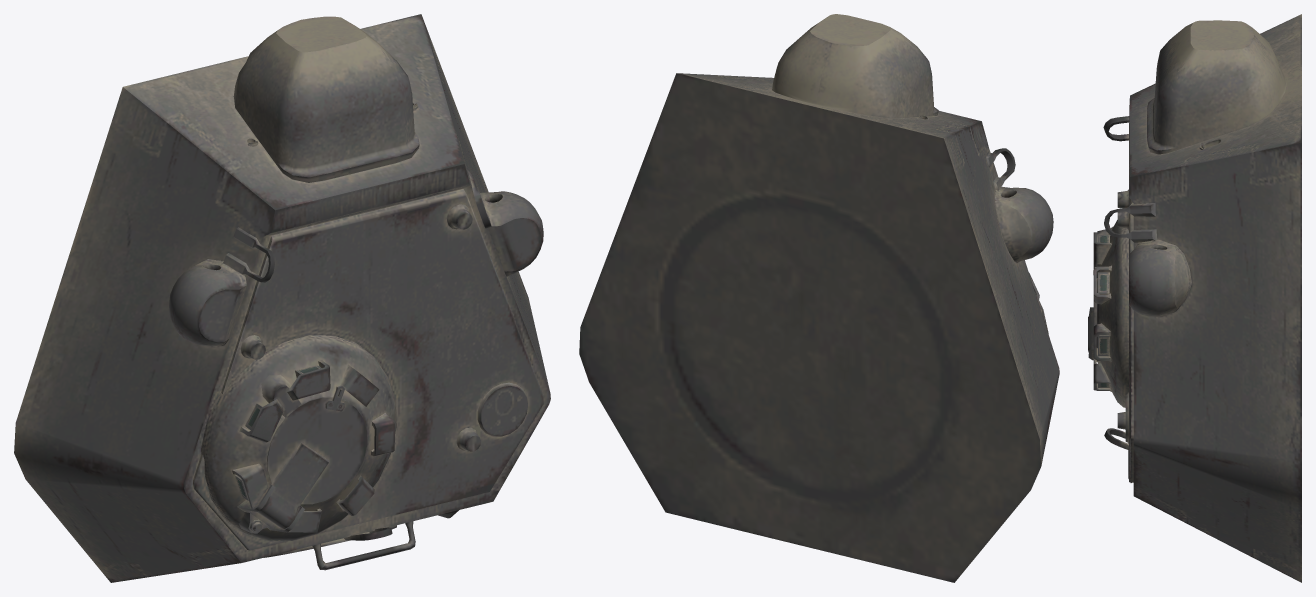
Rendered from Turret_01.glb.
The picture shows the model from 3 angles, left to right: view 1: azimuth 30°, elevation 25°; view 2: azimuth 150°, elevation 25°; view 3: azimuth 270°, elevation 25°; orthographic projection. The views are drawn at different scales.
Parts seen in each view (by area): view 1: set_0_group_0; view 2: set_0_group_0; view 3: set_0_group_0.
Part boxes in pixels (x1,y1,x2,y2): set_0_group_0: (14,14,550,582); set_0_group_0: (579,14,1059,582); set_0_group_0: (1088,14,1301,582).
Bounding box in the file's own units: 2.59 × 2.61 × 1.05.
Materials: 1 (1 with a texture image).
